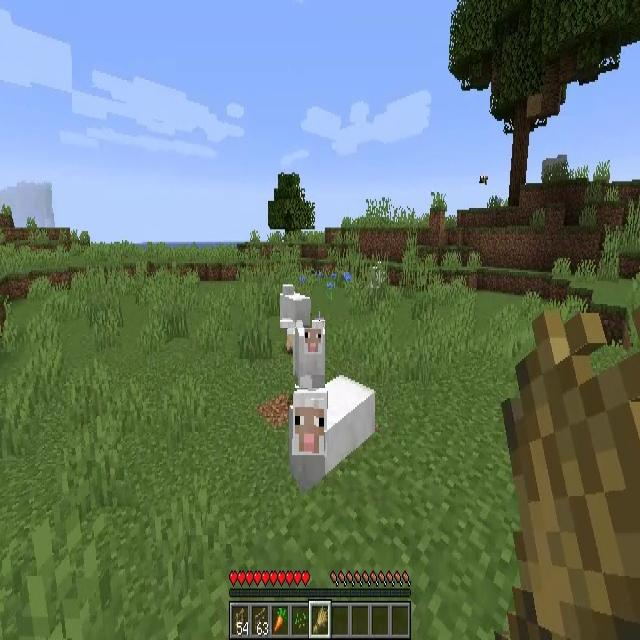sheep: (292, 376, 376, 494), (295, 321, 325, 388), (280, 283, 312, 328)
